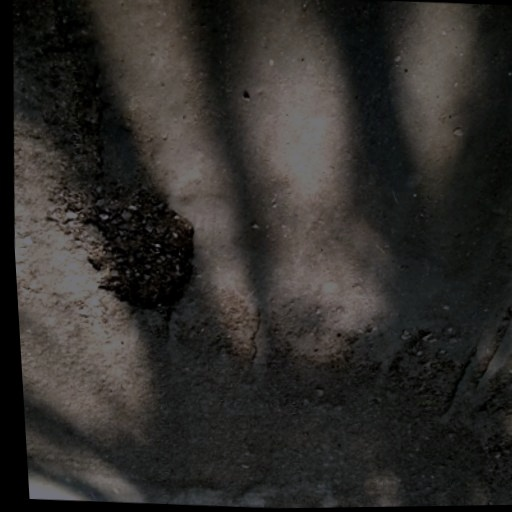pothole: (64, 189, 209, 318)
